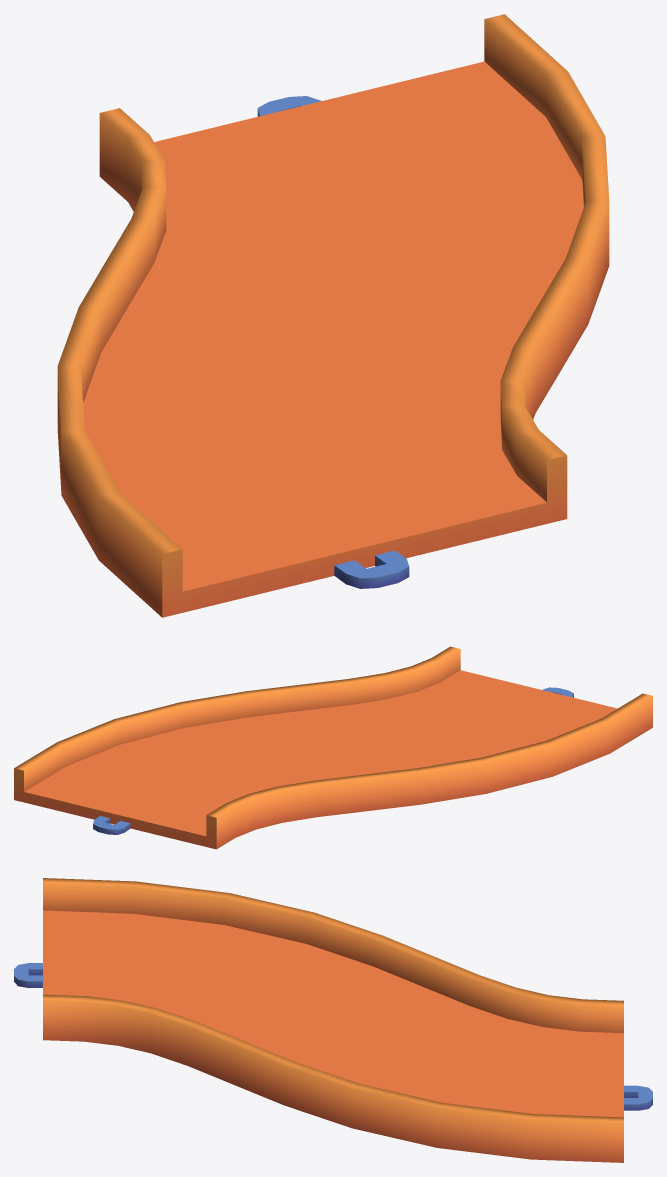
File: track-wide-curve.obj
3 renders of one model, top to bottom at view 1: azimuth 30°, elevation 25°; view 2: azimuth 150°, elevation 25°; view 3: azimuth 270°, elevation 25°, orthographic. The views are drawn at different scales.
Parts seen in each view (by area): view 1: track-wide-curve; view 2: track-wide-curve; view 3: track-wide-curve.
Boxes of the visible parts, x1,y1,x2,y2 form: track-wide-curve: [57, 14, 609, 617]; track-wide-curve: [14, 646, 652, 849]; track-wide-curve: [14, 878, 652, 1162].
Bounding box in the file's own units: 4 × 0.3 × 4.4.
1 material, 1 textured.
